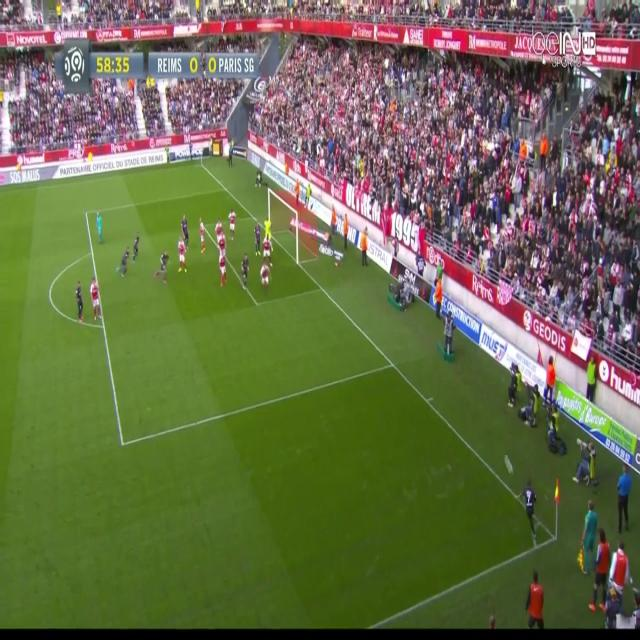Ball: (502, 455, 516, 478)
Goalkeeper: (263, 216, 273, 246)
Player: (514, 478, 542, 547), (153, 250, 170, 287), (90, 276, 103, 323), (113, 246, 130, 280), (238, 249, 252, 290), (257, 238, 275, 269), (175, 237, 188, 276), (179, 211, 191, 253), (216, 230, 229, 265), (217, 254, 228, 294), (74, 280, 84, 322), (258, 266, 274, 292), (226, 207, 238, 241), (252, 220, 262, 260), (130, 232, 142, 263), (198, 213, 206, 257), (214, 215, 226, 238)
Referee: (578, 502, 598, 578), (94, 209, 105, 244)
